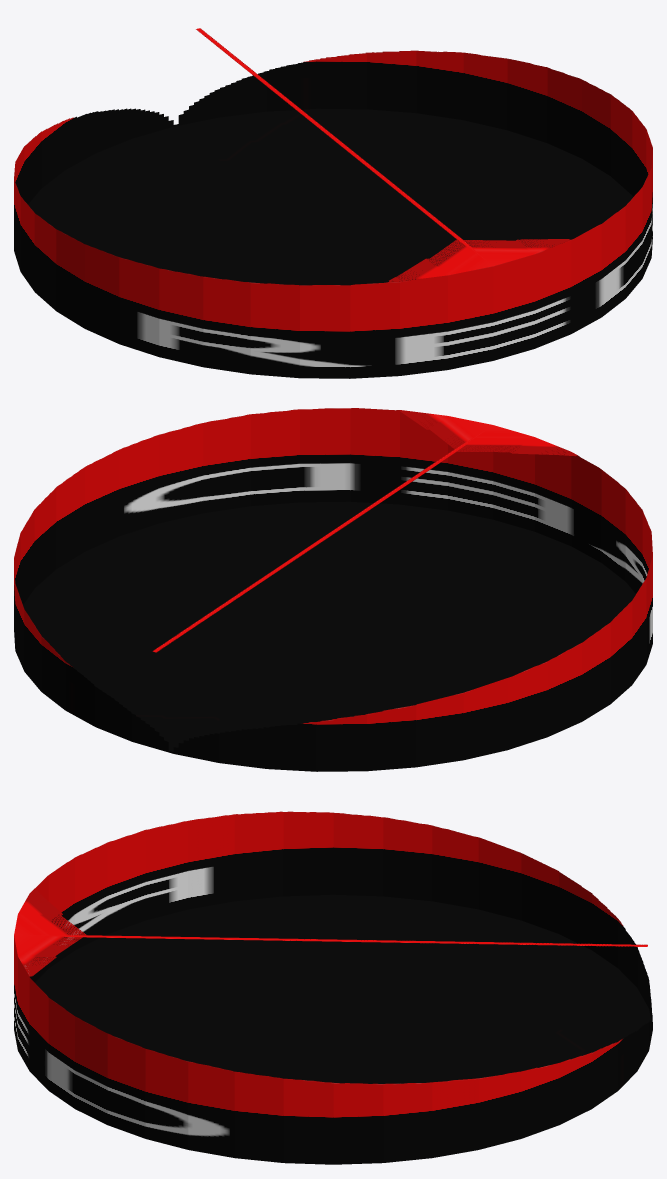
The model's file is disc_textured_fixed.obj.
3 views of the same model, one above another, from view 1: azimuth 30°, elevation 25°; view 2: azimuth 150°, elevation 25°; view 3: azimuth 270°, elevation 25° (orthographic).
Visible parts, largest first — view 1: Cylinder; view 2: Cylinder; view 3: Cylinder.
Boxes of the visible parts, box(x1,y1,x2,y2) form: Cylinder: box(14, 28, 652, 378); Cylinder: box(14, 408, 652, 771); Cylinder: box(14, 811, 652, 1164).
Size of the model in its own units: 0.8 by 0.1305 by 0.8.
1 material, 1 textured.
